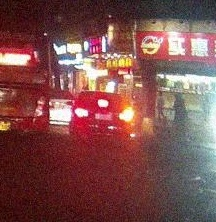L_light: (74, 107, 89, 118)
R_light: (118, 109, 132, 121)
T_light: (97, 99, 108, 106)
night-right: (72, 91, 134, 143)
